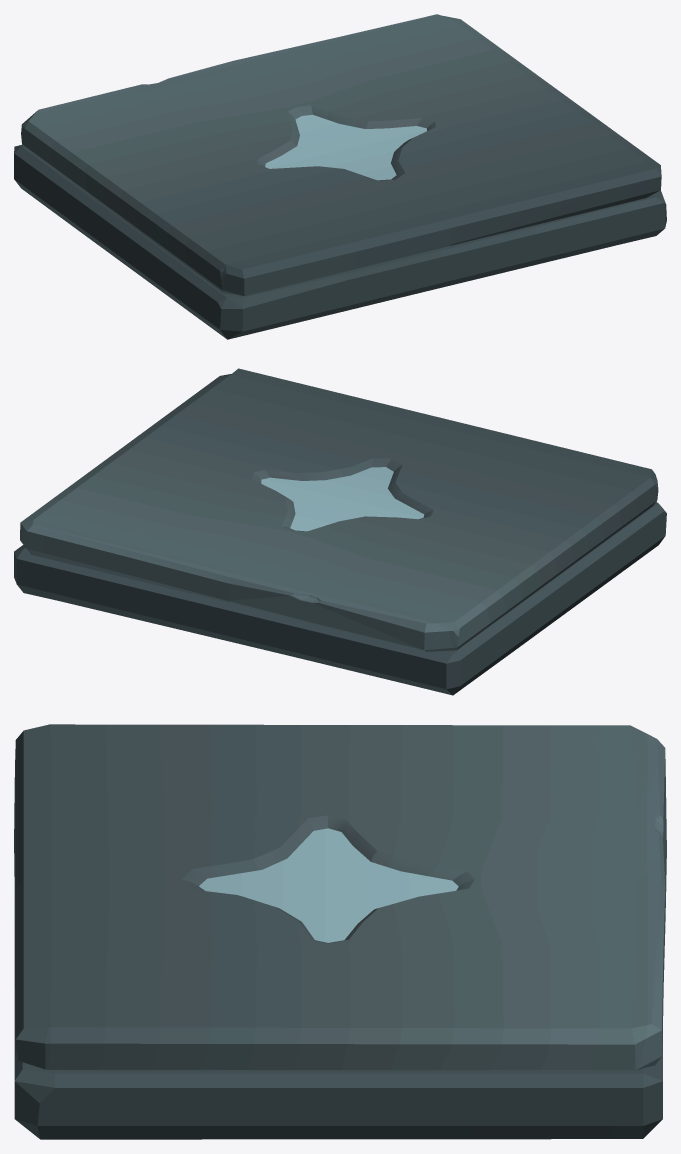
Rendered from CharSkyKid_Prop_ClosedAnnivLaptop.glb.
3 views of the same model, one above another, from view 1: azimuth 30°, elevation 25°; view 2: azimuth 150°, elevation 25°; view 3: azimuth 270°, elevation 25° (orthographic). The views are drawn at different scales.
Visible parts, largest first — view 1: CharSkyKid_Prop_ClosedAnnivLaptop; view 2: CharSkyKid_Prop_ClosedAnnivLaptop; view 3: CharSkyKid_Prop_ClosedAnnivLaptop.
Part boxes in pixels (box(x1,y1,x2,y2)): CharSkyKid_Prop_ClosedAnnivLaptop: box(14, 14, 666, 339); CharSkyKid_Prop_ClosedAnnivLaptop: box(14, 368, 666, 695); CharSkyKid_Prop_ClosedAnnivLaptop: box(14, 724, 666, 1139).
Bounding box in the file's own units: 3.74 × 0.5844 × 3.21.
1 material, 1 textured.
